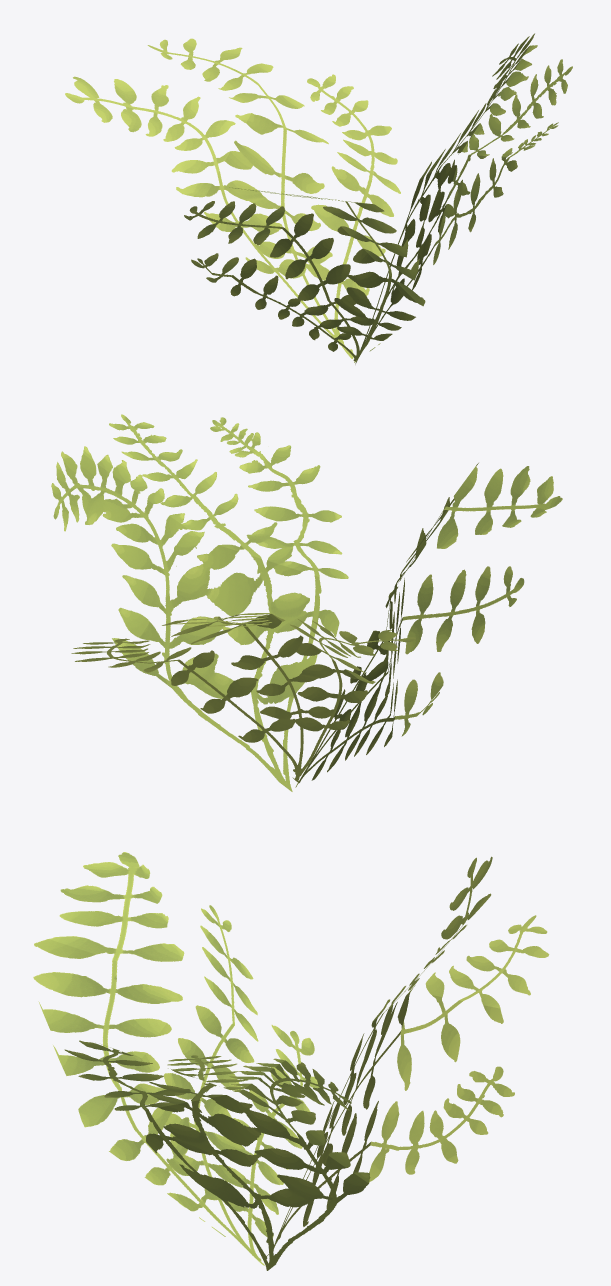
File: youngBush.fbx
The picture shows the model from 3 angles, top to bottom: view 1: azimuth 30°, elevation 25°; view 2: azimuth 150°, elevation 25°; view 3: azimuth 270°, elevation 25°; orthographic projection. The views are drawn at different scales.
Visible parts, largest first — view 1: Young Shrub; view 2: Young Shrub; view 3: Young Shrub.
Part boxes in pixels (x1,y1,x2,y2): Young Shrub: (65,33,572,364); Young Shrub: (51,414,562,791); Young Shrub: (33,852,549,1270).
Size of the model in its own units: 125 by 73.4 by 118.
